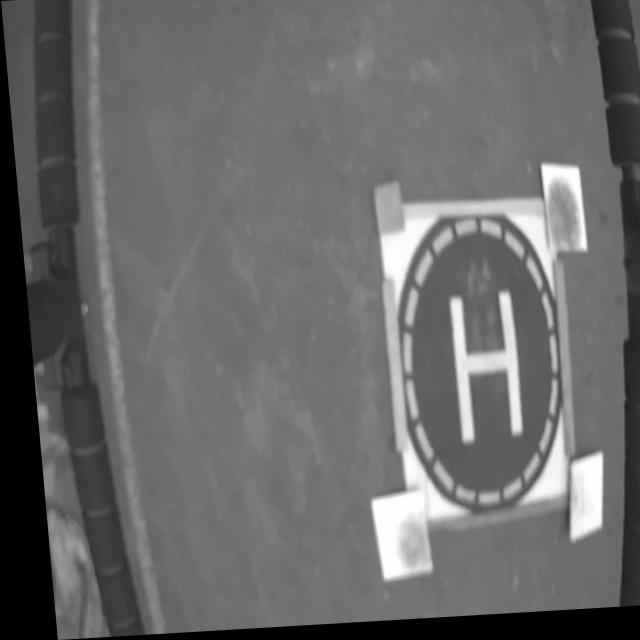Helipad: (445, 296, 513, 448)
